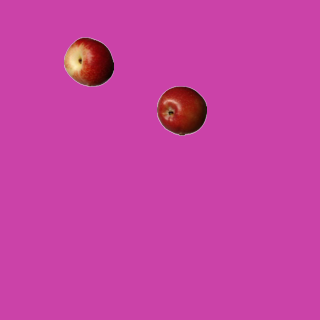Apple Braeburn: (156, 85, 206, 135)
Nectarine: (63, 36, 113, 86)
